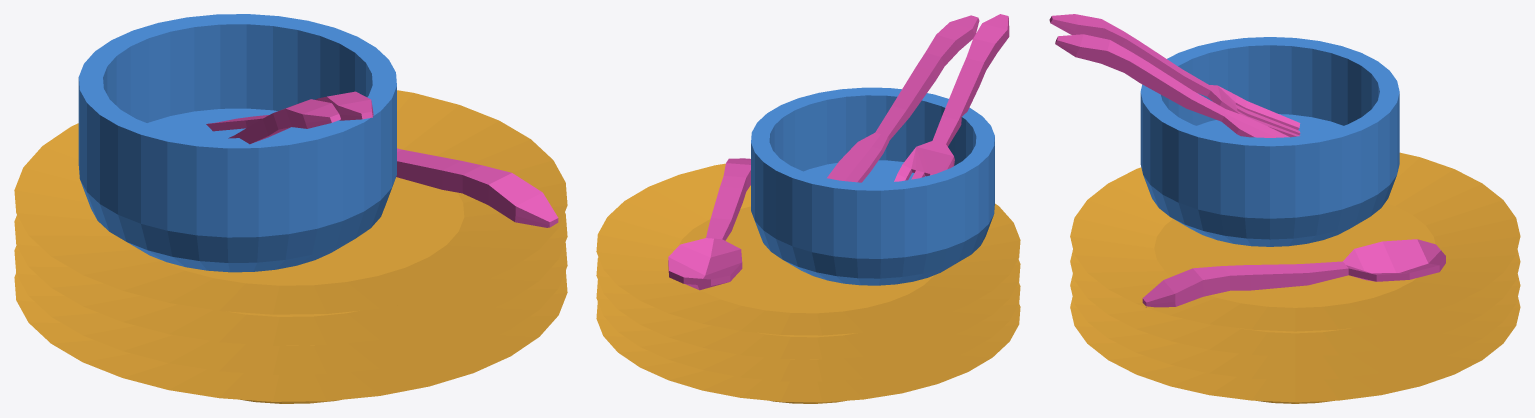
The model's file is cutlery connected.fbx.
3 views of the same model, side by side, from view 1: azimuth 30°, elevation 25°; view 2: azimuth 150°, elevation 25°; view 3: azimuth 270°, elevation 25° (orthographic). The views are drawn at different scales.
Parts seen in each view (by area): view 1: CUTLERY; view 2: CUTLERY; view 3: CUTLERY.
Part boxes in pixels (x1,y1,x2,y2): CUTLERY: (14,14,567,403); CUTLERY: (596,14,1020,403); CUTLERY: (1049,14,1520,403).
Size of the model in its own units: 396 by 288 by 414.
